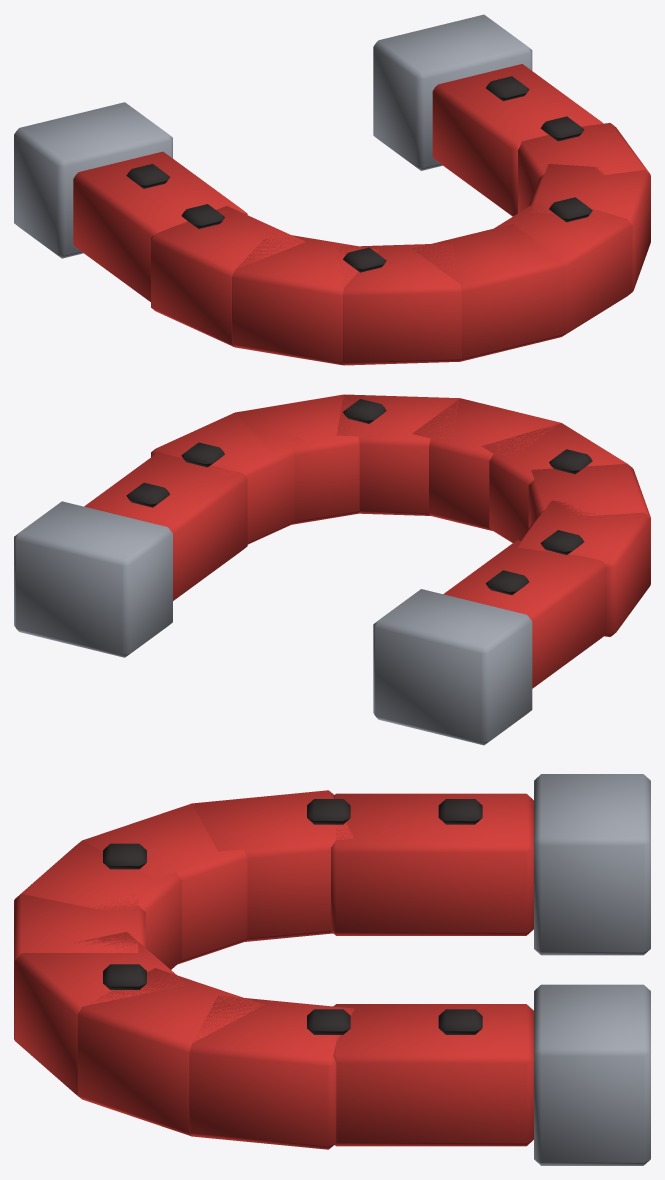
The model's file is G_MedIronHorseshoe.fbx.
3 views of the same model, one above another, from view 1: azimuth 30°, elevation 25°; view 2: azimuth 150°, elevation 25°; view 3: azimuth 270°, elevation 25° (orthographic). The views are drawn at different scales.
Parts seen in each view (by area): view 1: M_IronHorseshoe; view 2: M_IronHorseshoe; view 3: M_IronHorseshoe.
Part boxes in pixels (box(x1,y1,x2,y2)): M_IronHorseshoe: box(14, 14, 650, 365); M_IronHorseshoe: box(14, 394, 650, 745); M_IronHorseshoe: box(14, 774, 650, 1165).
Size of the model in its own units: 0.45 by 0.09 by 0.435.
1 material, 1 textured.
